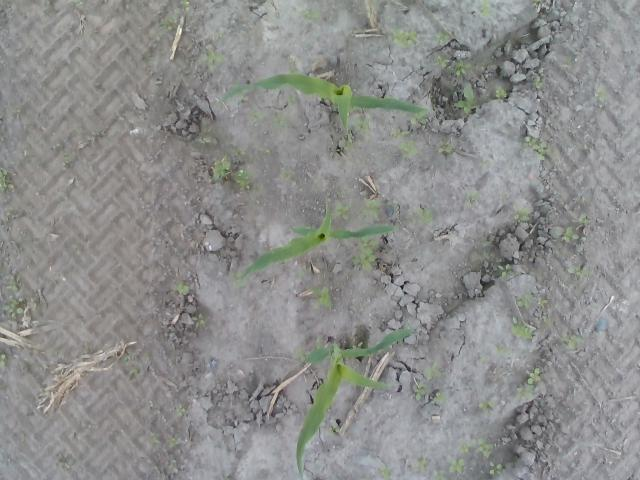Weeds: (432, 441, 504, 480), (510, 290, 552, 340), (210, 148, 250, 189), (550, 213, 588, 254), (413, 366, 448, 401), (351, 235, 382, 272), (515, 366, 544, 402), (434, 55, 471, 78), (390, 128, 419, 156), (308, 285, 338, 310), (452, 82, 477, 112), (524, 134, 551, 161), (248, 110, 286, 128), (335, 191, 353, 222), (0, 298, 24, 320), (360, 198, 382, 222), (198, 48, 227, 66), (566, 264, 594, 280), (411, 206, 433, 226), (391, 30, 416, 47), (0, 166, 15, 194), (228, 270, 248, 290), (406, 454, 428, 472), (562, 332, 584, 350), (200, 126, 218, 146), (512, 206, 532, 224), (436, 139, 456, 155), (301, 7, 321, 23), (158, 15, 178, 30), (478, 240, 492, 260), (6, 273, 20, 292), (190, 314, 206, 330), (493, 82, 507, 100), (478, 398, 498, 410), (175, 280, 190, 296), (497, 264, 514, 278), (354, 117, 369, 132), (435, 30, 451, 44), (496, 344, 512, 358), (148, 432, 162, 446), (594, 86, 608, 100), (314, 333, 325, 350), (342, 130, 352, 148), (410, 112, 426, 123), (480, 0, 490, 17), (121, 350, 134, 362), (380, 467, 392, 480), (256, 146, 272, 155), (278, 166, 290, 178), (32, 361, 50, 369), (165, 438, 178, 449), (128, 366, 138, 380), (176, 404, 186, 418), (465, 190, 479, 200), (0, 351, 8, 368), (532, 78, 544, 89), (296, 348, 307, 360), (50, 144, 64, 152), (72, 0, 86, 8), (63, 152, 74, 162), (295, 269, 305, 279), (287, 95, 298, 104), (179, 0, 193, 6), (478, 355, 488, 363), (330, 425, 338, 433), (478, 63, 484, 70), (531, 0, 541, 3)
